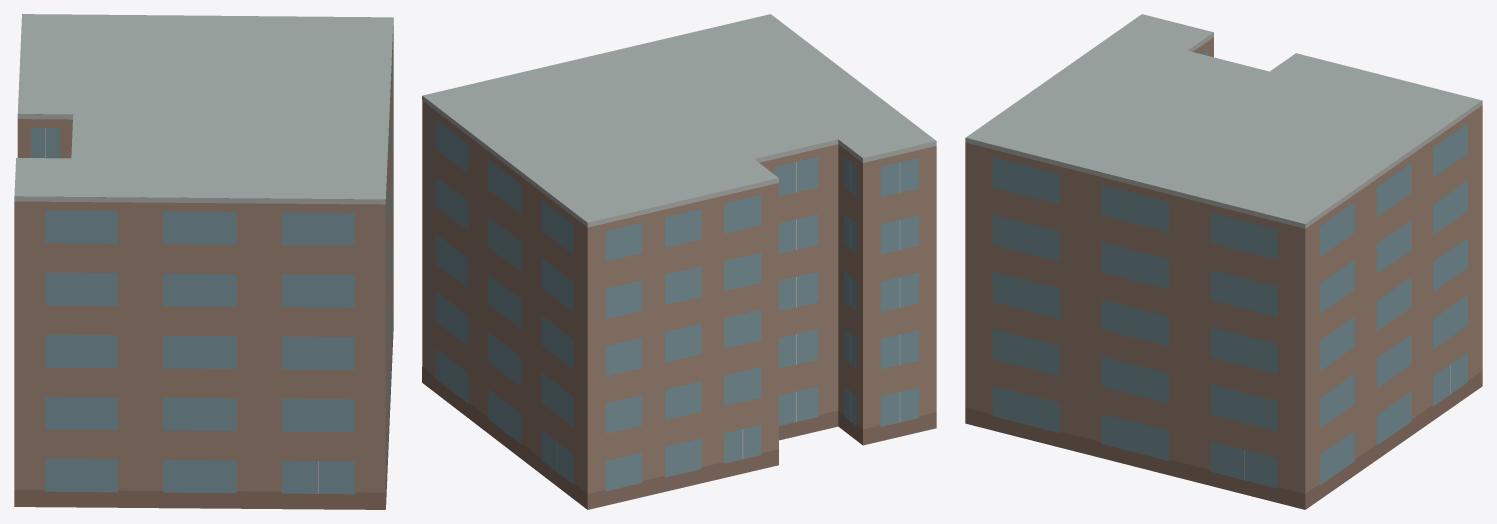
Rendered from survey-upis-32721039.glb.
3 renders of one model, left to right at view 1: azimuth 30°, elevation 25°; view 2: azimuth 150°, elevation 25°; view 3: azimuth 270°, elevation 25°, orthographic. The views are drawn at different scales.
Parts seen in each view (by area): view 1: survey-upis-32721039.tmp; view 2: survey-upis-32721039.tmp; view 3: survey-upis-32721039.tmp.
Boxes of the visible parts, x1,y1,x2,y2 form: survey-upis-32721039.tmp: [14, 14, 393, 509]; survey-upis-32721039.tmp: [422, 14, 936, 509]; survey-upis-32721039.tmp: [965, 14, 1482, 509].
Size of the model in its own units: 23.26 by 14.75 by 24.19.
